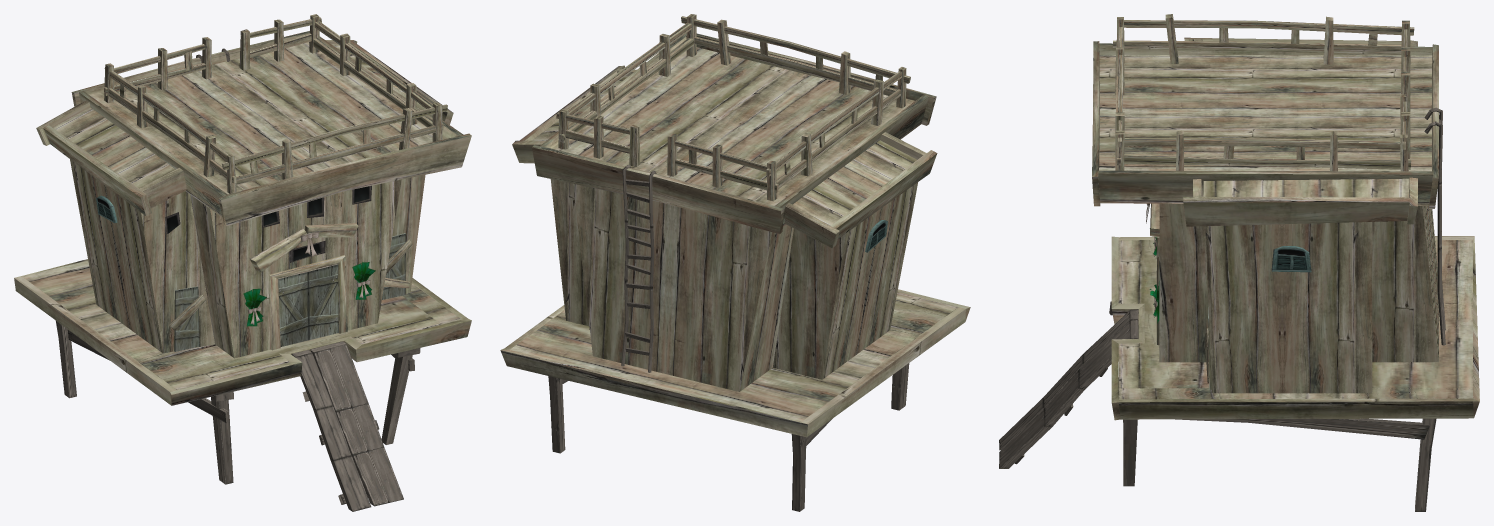
Rendered from shanty_npc_house_combo_F.fbx.
The picture shows the model from 3 angles, left to right: view 1: azimuth 30°, elevation 25°; view 2: azimuth 150°, elevation 25°; view 3: azimuth 270°, elevation 25°; orthographic projection. The views are drawn at different scales.
Parts seen in each view (by area): view 1: building_main, pPlane7, balconyfloormain5, pasted__pPlane13, pasted__second_floor_geo, rightside, pPlane5, balconyfloor, leftside, door_right, door_left, door_frame (+17 smaller); view 2: building_main, pPlane7, pasted__pPlane13, balconyfloormain5, pasted__second_floor_geo, pPlane5, balconyfloor, railing105, railing125, railing128_1, balconyfloorall_all, railing125_1 (+9 smaller); view 3: building_main, pPlane7, pasted__pPlane13, pasted__second_floor_geo, balconyfloormain5, balconyfloorall_all, pPlane9, rightside, railing125_1, railing128_1, pasted__columnsupport, railing127_1 (+7 smaller).
Part boxes in pixels (x1,y1,x2,y2): building_main: (70,159,425,358); pPlane7: (89,42,443,194); balconyfloormain5: (71,31,471,226); pasted__pPlane13: (22,260,461,390); pasted__second_floor_geo: (14,259,471,405); rightside: (310,341,403,506); pPlane5: (52,107,175,188); balconyfloor: (36,100,186,215); leftside: (291,350,371,511); door_right: (308,264,338,340); door_left: (278,272,308,346); door_frame: (269,255,347,350); building_main: (550,179,917,391); pPlane7: (555,47,914,205); pasted__pPlane13: (510,292,958,421); balconyfloormain5: (532,33,936,233); pasted__second_floor_geo: (500,289,970,437); pPlane5: (793,140,916,225); balconyfloor: (784,132,937,248); railing105: (681,16,910,83); railing125: (686,35,896,95); railing128_1: (559,38,693,142); balconyfloorall_all: (512,65,647,163); railing125_1: (776,89,906,188); building_main: (1159,203,1438,393); pPlane7: (1099,55,1432,171); pasted__pPlane13: (1118,240,1472,399); pasted__second_floor_geo: (1111,236,1479,420); balconyfloormain5: (1092,41,1438,208); balconyfloorall_all: (1183,177,1417,226); pPlane9: (1203,178,1409,197); rightside: (999,320,1138,468); railing125_1: (1112,40,1401,54); railing128_1: (1124,154,1411,169); pasted__columnsupport: (1175,418,1429,439); railing127_1: (1124,138,1400,149).
Size of the model in its own units: 4842 by 4917 by 5539.
Materials: 3 (3 with a texture image).
